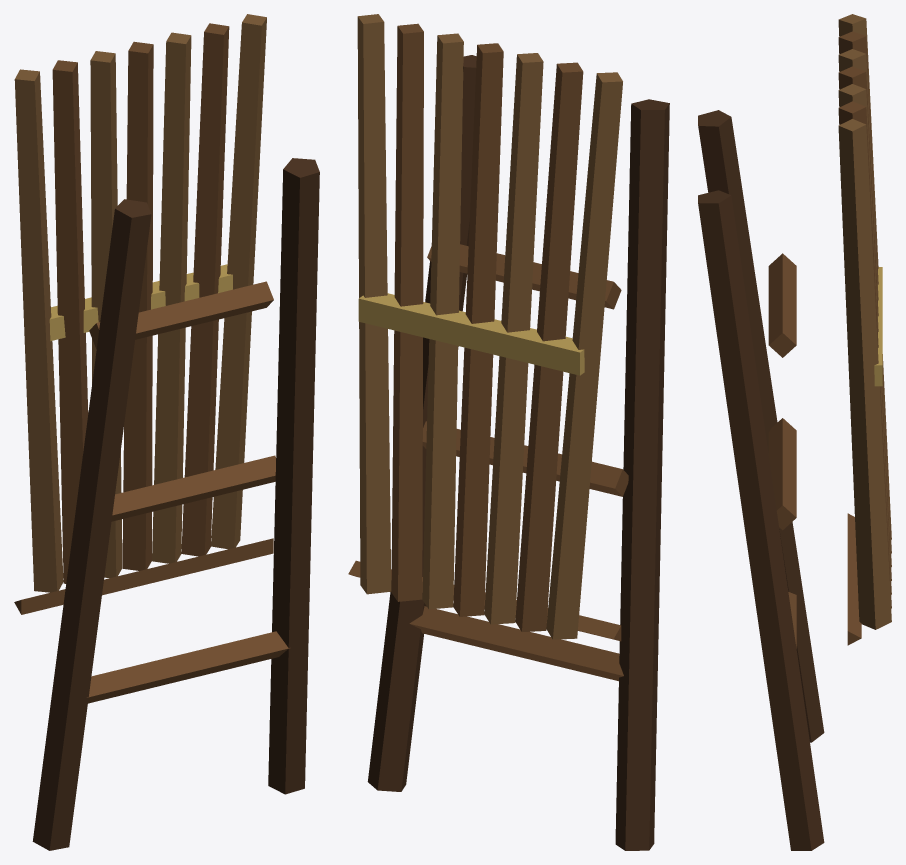
Rendered from prop_life_jige.glb.
3 views of the same model, side by side, from view 1: azimuth 30°, elevation 25°; view 2: azimuth 150°, elevation 25°; view 3: azimuth 270°, elevation 25° (orthographic). The views are drawn at different scales.
Parts seen in each view (by area): view 1: prop_life_jige; view 2: prop_life_jige; view 3: prop_life_jige.
Part boxes in pixels (x1,y1,x2,y2): prop_life_jige: (14,14,319,850); prop_life_jige: (348,14,669,850); prop_life_jige: (698,14,891,850).
Bounding box in the file's own units: 0.6359 × 1.71 × 0.4171.
